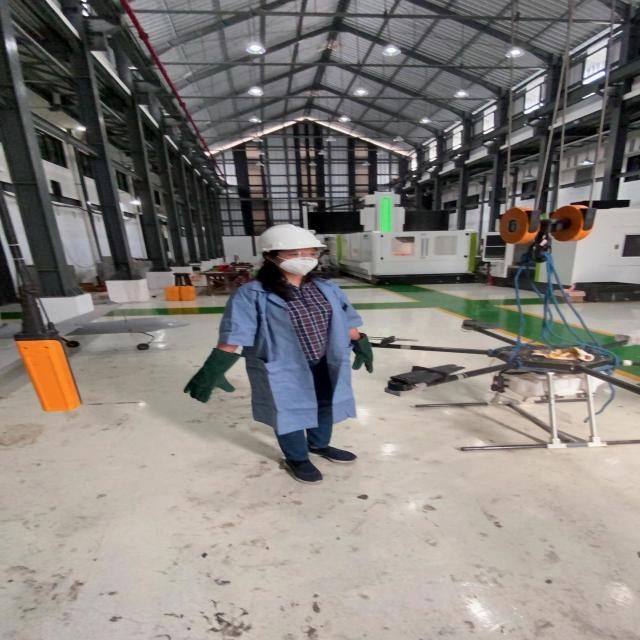face_mask: (274, 247, 322, 276)
glasses: (278, 248, 326, 260)
hand_glove: (180, 362, 242, 402), (347, 345, 380, 374)
head_helmet: (258, 222, 330, 251)
person: (173, 222, 386, 491)
shoes: (280, 450, 330, 484), (303, 441, 361, 463)
